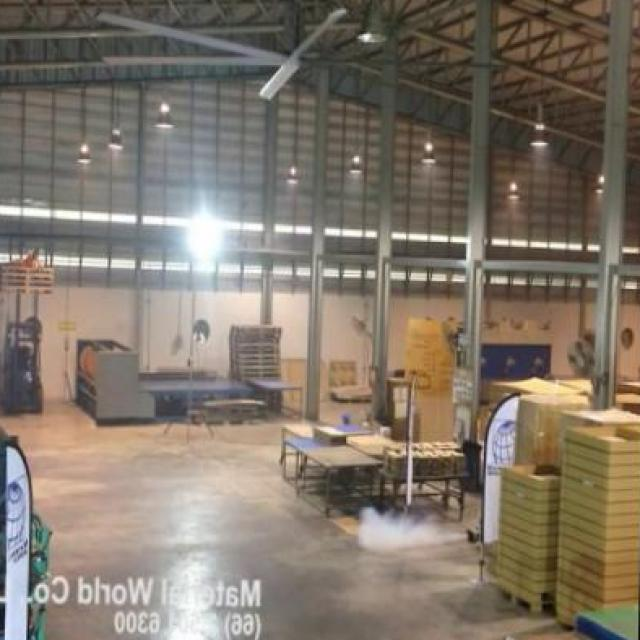fire: (354, 502, 447, 559)
